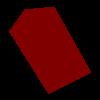abbigliamento_uomo: (9, 6, 91, 94)
